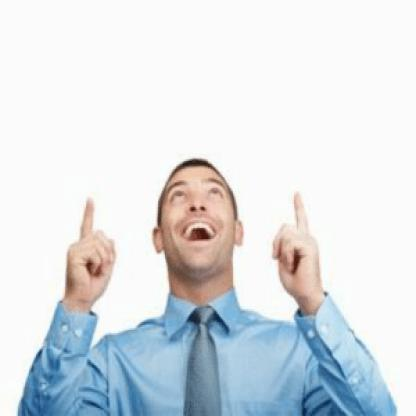Up: (46, 186, 127, 309), (264, 185, 336, 303)
